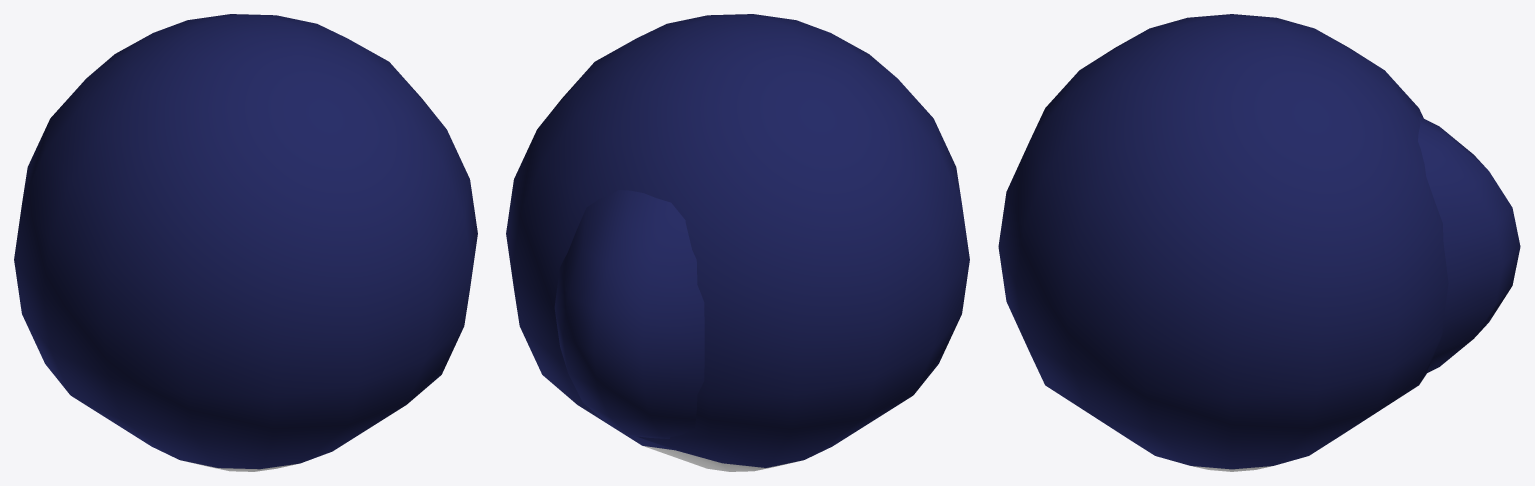
Rendered from EvilEyeRound.fbx.
3 renders of one model, left to right at view 1: azimuth 30°, elevation 25°; view 2: azimuth 150°, elevation 25°; view 3: azimuth 270°, elevation 25°, orthographic.
Parts seen in each view (by area): view 1: EyeBall.001; view 2: EyeBall.001, EyeHang.001; view 3: EyeBall.001, EyeHang.001.
Part boxes in pixels (<box>): EyeBall.001: <box>14,14,477,471</box>; EyeBall.001: <box>506,14,969,471</box>; EyeHang.001: <box>554,190,704,438</box>; EyeBall.001: <box>998,14,1448,471</box>; EyeHang.001: <box>1418,116,1520,372</box>.
Size of the model in its own units: 2 by 2 by 2.23.
